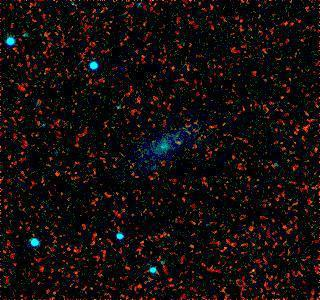star: (165, 129, 195, 159)
